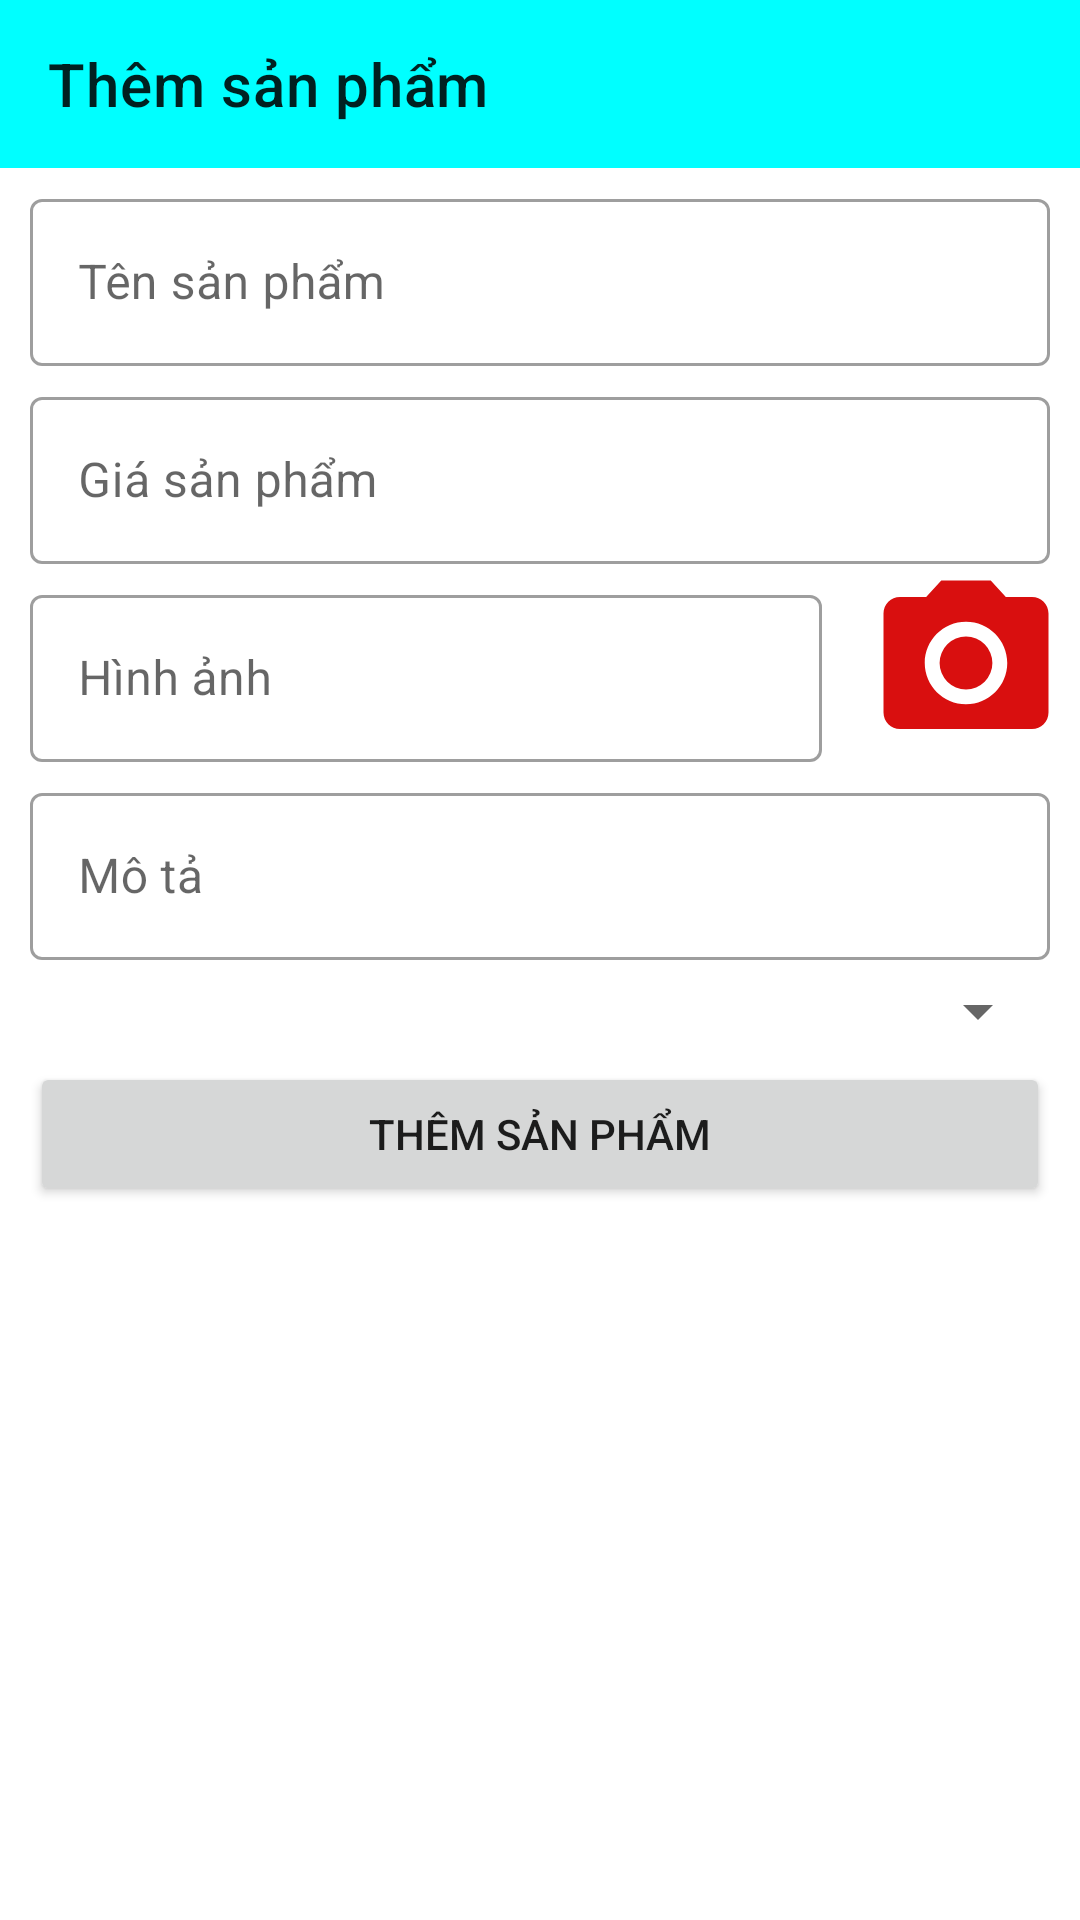

Named icons in this screenshot (1080×1920) and their bounding boxes, [x1, y1, x2, y2]:
camera: [883, 580, 1049, 729]
